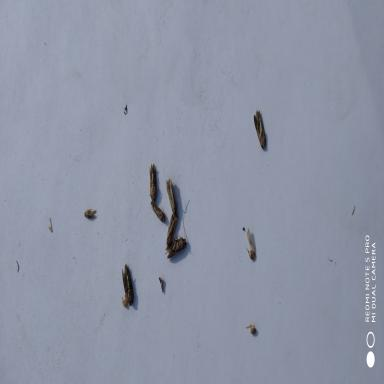pbw: (165, 175, 180, 218), (121, 260, 134, 306), (253, 108, 266, 150), (148, 161, 160, 203), (166, 210, 178, 247), (150, 200, 166, 225), (84, 204, 98, 220)
